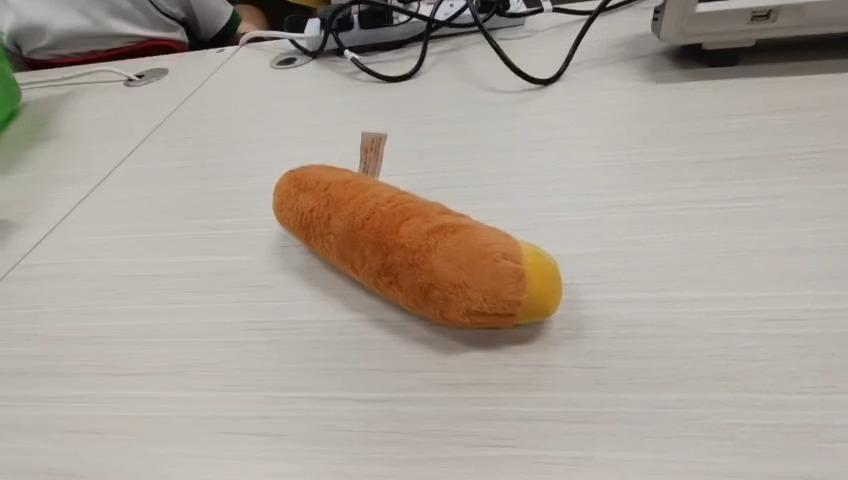hotdog: (271, 161, 563, 330)
